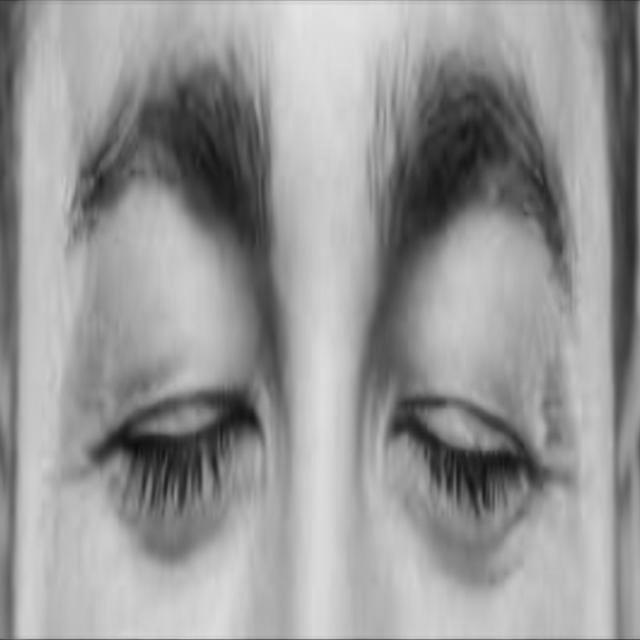real: (57, 60, 582, 624)
